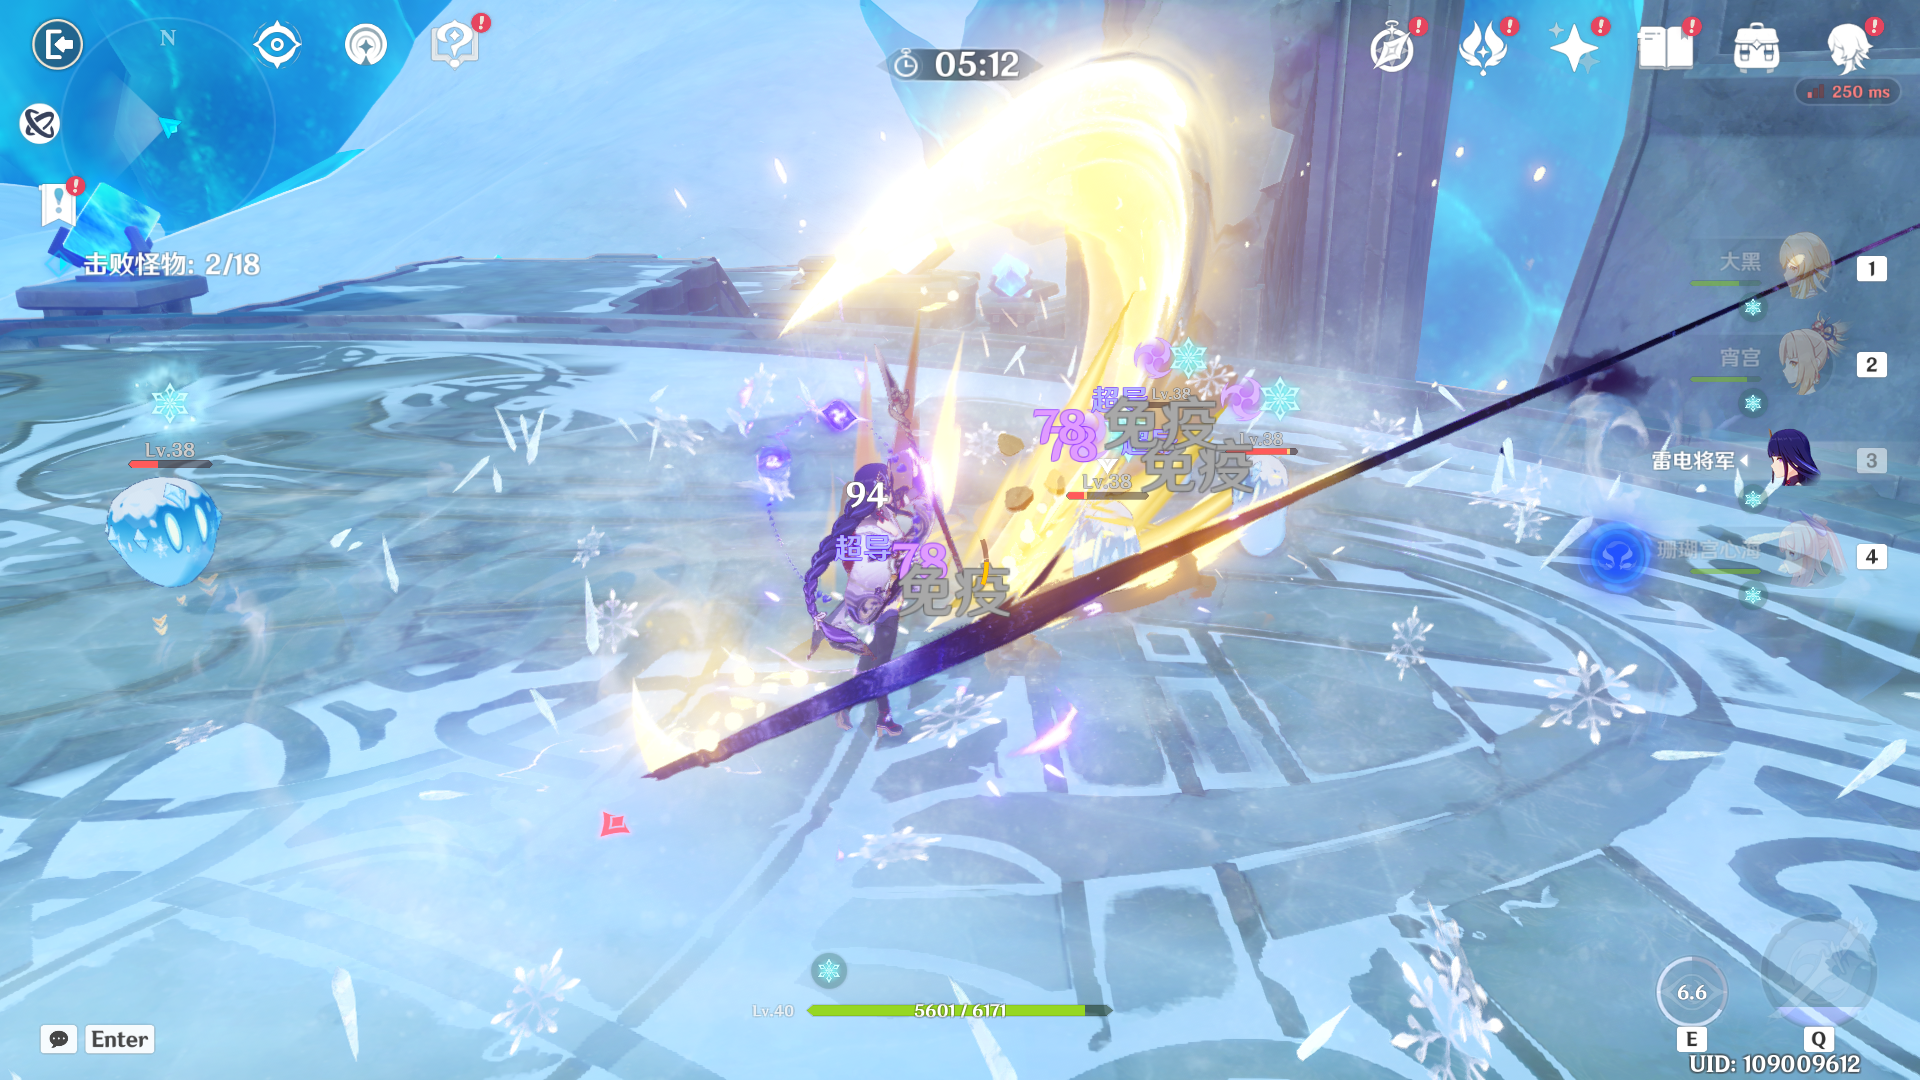character: (765, 433, 984, 766)
slime: (79, 464, 243, 592), (1222, 448, 1309, 566)
